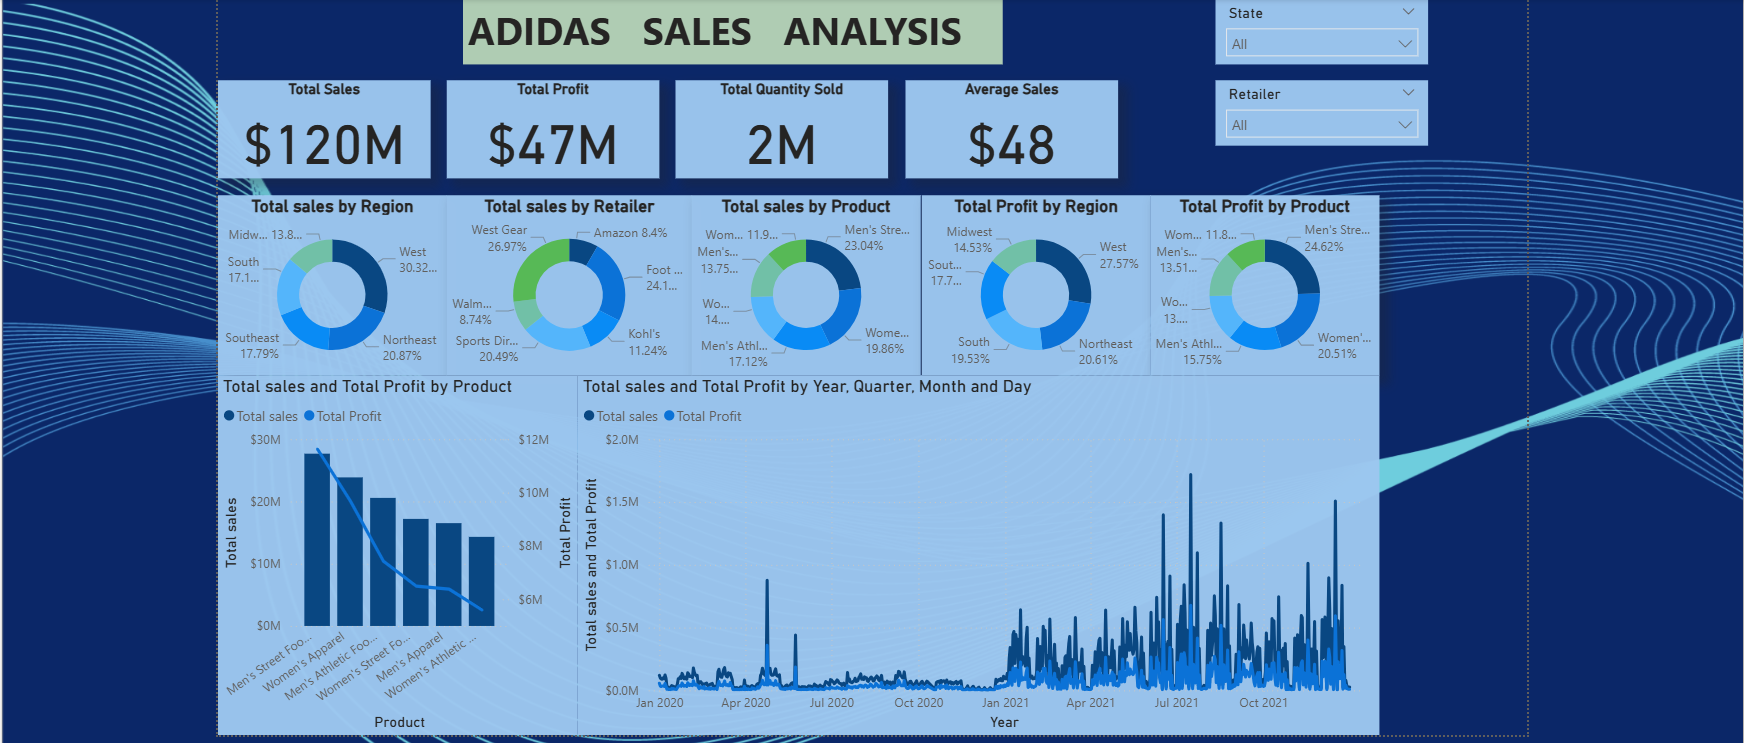

The dashboard page shown, as its layout file describes it:
{"tool":"powerbi","page":{"name":"Page 1","canvas":[1280,720],"ordinal":0},"visuals":[{"type":"card","title":"Total Sales","fields":{"Values":["Measures (2).Total sales"]},"box":[0,80,208,96],"z":0},{"type":"card","title":"Total Profit","fields":{"Values":["Measures (2).Total Profit"]},"box":[224,80,208,96],"z":1000},{"type":"card","title":"Total Quantity Sold","fields":{"Values":["Measures (2).Total quantity"]},"box":[448,80,208,96],"z":2000},{"type":"card","title":"Average Sales","fields":{"Values":["Measures (2).Average Sales"]},"box":[672,80,208,96],"z":3000},{"type":"donutChart","fields":{"Category":["Data Sales Adidas.Region"],"Y":["Measures (2).Total sales"]},"box":[0,192,224,176],"z":4000},{"type":"donutChart","fields":{"Y":["Measures (2).Total sales"],"Series":["Data Sales Adidas.Retailer"]},"box":[224,192,240,176],"z":5000},{"type":"donutChart","fields":{"Category":["Data Sales Adidas.Product"],"Y":["Measures (2).Total sales"]},"box":[464,192,224,176],"z":6000},{"type":"donutChart","fields":{"Category":["Data Sales Adidas.Region"],"Y":["Measures (2).Total Profit"]},"box":[688,192,224,176],"z":7000},{"type":"donutChart","fields":{"Category":["Data Sales Adidas.Product"],"Y":["Measures (2).Total Profit"]},"box":[912,192,224,176],"z":8000},{"type":"lineStackedColumnComboChart","fields":{"Category":["Data Sales Adidas.Product"],"Y":["Measures (2).Total sales"],"Y2":["Measures (2).Total Profit"]},"box":[0,368,352,352],"z":9000},{"type":"lineChart","fields":{"Category":["Dates.Date.Variation.Date Hierarchy.Year","Dates.Date.Variation.Date Hierarchy.Quarter","Dates.Date.Variation.Date Hierarchy.Month","Dates.Date.Variation.Date Hierarchy.Day"],"Y":["Measures (2).Total sales","Measures (2).Total Profit"]},"box":[352,368,784,352],"z":10000},{"type":"slicer","fields":{"Values":["Data Sales Adidas.State"]},"box":[976,0,208,64],"z":11000},{"type":"slicer","fields":{"Values":["Data Sales Adidas.Retailer"]},"box":[976,80,208,64],"z":12000},{"type":"textbox","box":[240,0,528,64],"z":13000}]}

Visuals, with their boxes in screenshot pixels (x1, y1, x2, y2):
"Total Sales" card: crop(213, 77, 426, 175)
"Total Profit" card: crop(442, 77, 654, 175)
"Total Quantity Sold" card: crop(671, 77, 883, 175)
"Average Sales" card: crop(899, 77, 1111, 175)
donutChart - Data Sales Adidas.Region x Measures (2).Total sales: crop(213, 191, 442, 371)
donutChart - Measures (2).Total sales x Data Sales Adidas.Retailer: crop(442, 191, 687, 371)
donutChart - Data Sales Adidas.Product x Measures (2).Total sales: crop(687, 191, 915, 371)
donutChart - Data Sales Adidas.Region x Measures (2).Total Profit: crop(915, 191, 1144, 371)
donutChart - Data Sales Adidas.Product x Measures (2).Total Profit: crop(1144, 191, 1372, 371)
lineStackedColumnComboChart - Data Sales Adidas.Product x Measures (2).Total sales: crop(213, 371, 573, 730)
lineChart - Dates.Date.Variation.Date Hierarchy.Year x Dates.Date.Variation.Date Hierarchy.Quarter: crop(573, 371, 1372, 730)
slicer - Data Sales Adidas.State: crop(1209, 0, 1421, 61)
slicer - Data Sales Adidas.Retailer: crop(1209, 77, 1421, 142)
textbox: crop(458, 0, 997, 61)
